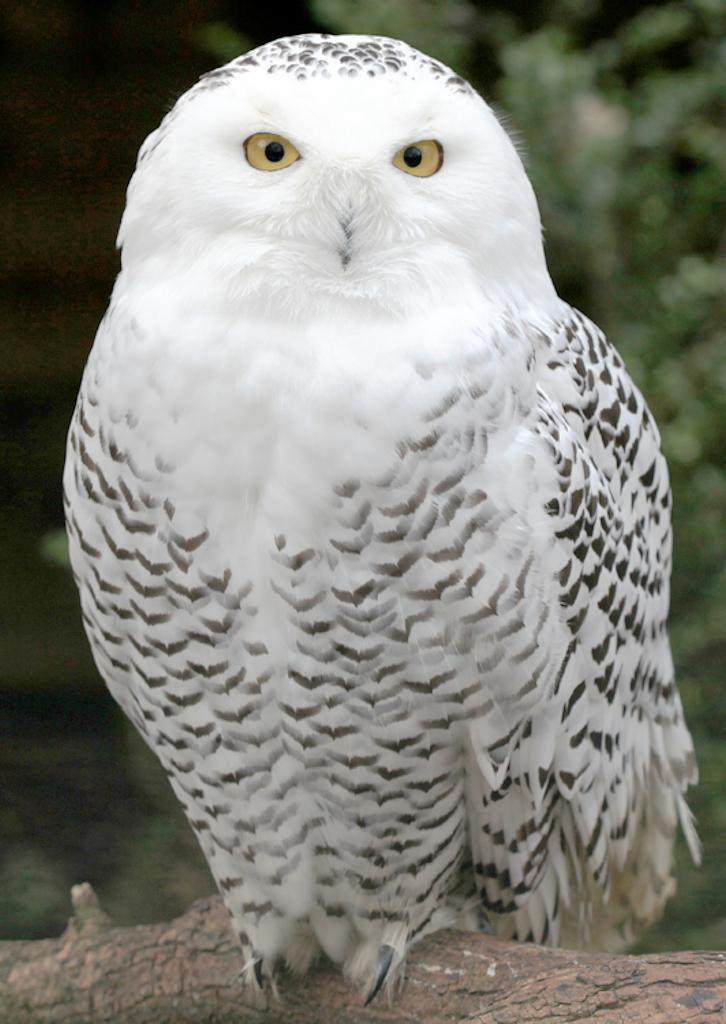Owl: (58, 32, 710, 1022)
